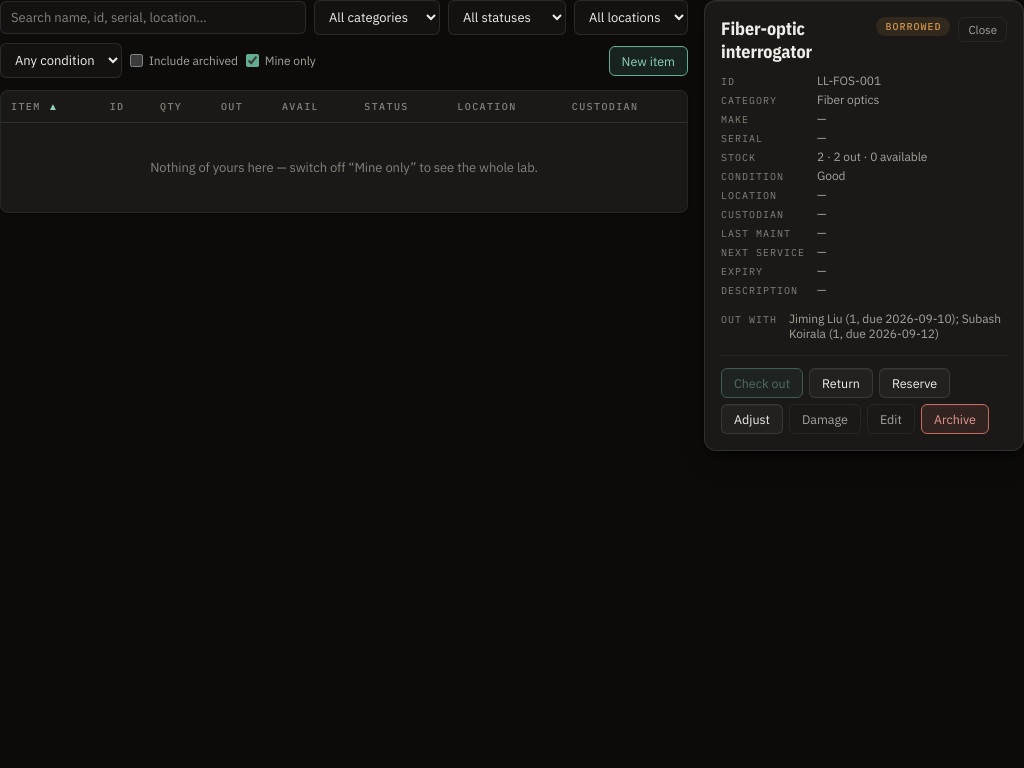
it: Return (items drawer) › flag on: a manager sees every loan, labelled on-behalf
This screenshot has width=1024, height=768.
Click the button "Return": (841, 383) [809,368,873,398]
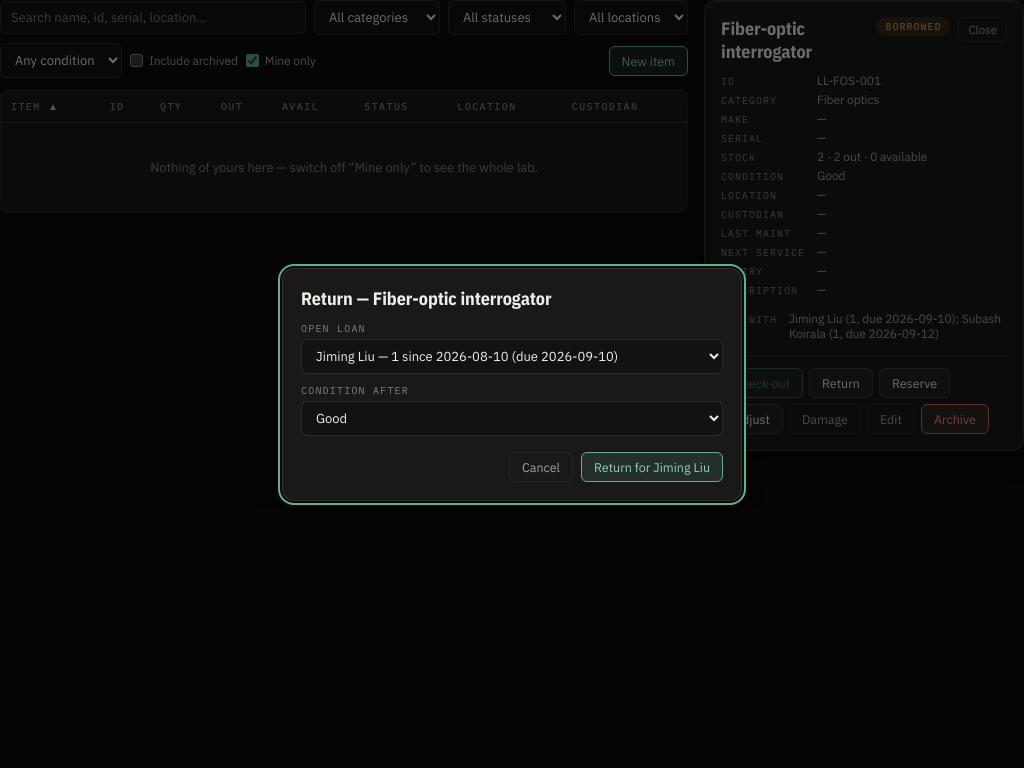
Expected: the button "Return for Jiming Liu" is shown, [581,452,723,482]
Select "Subash Koirala — 1 since 2026-08-12 (due 2026-09-12)" in the dropdown labelled "Open loan": (512, 356) [301,338,723,374]
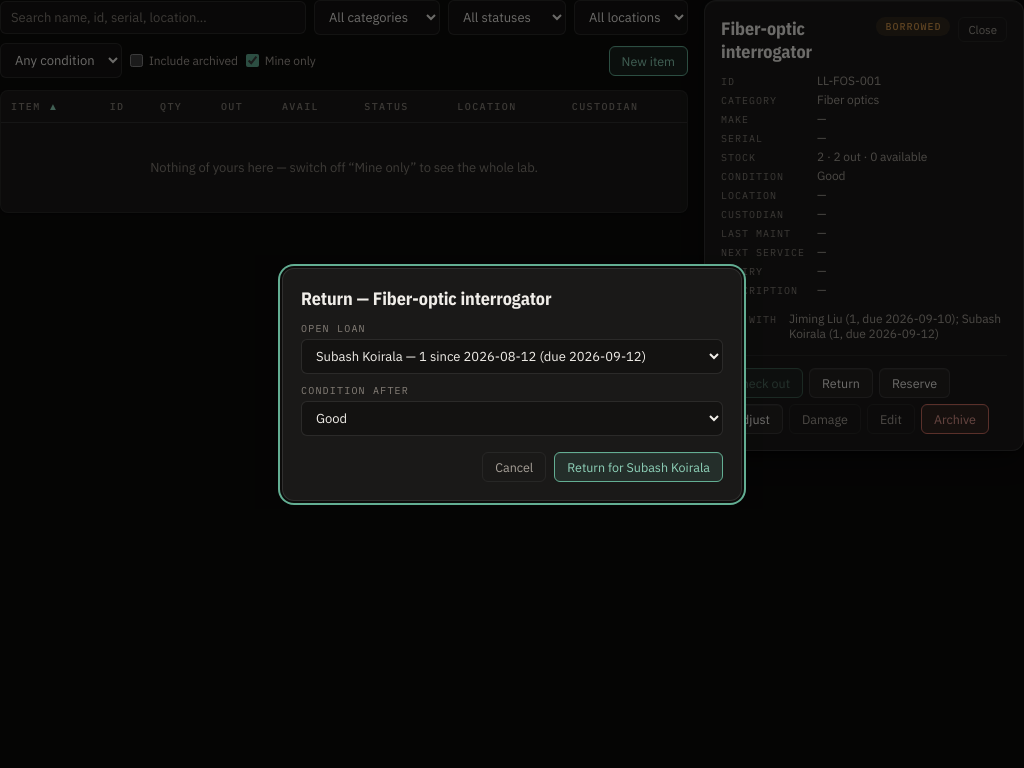
Expected: the button "Return for Subash Koirala" is shown, [554,452,723,482]
